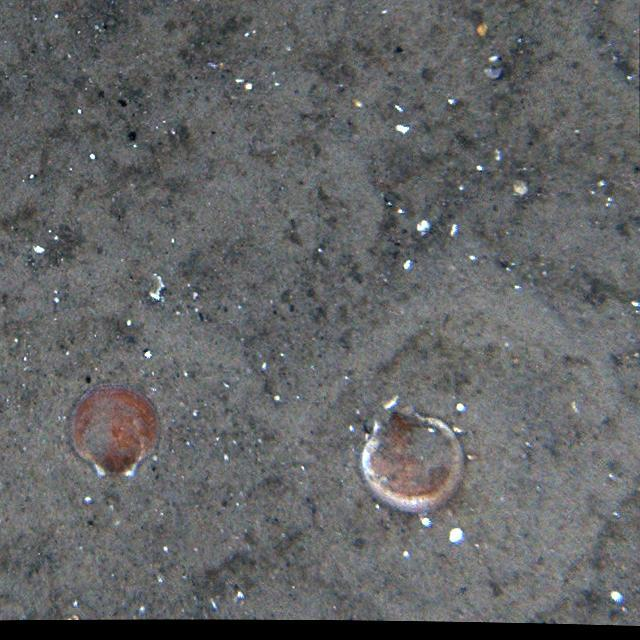scallop: (356, 400, 466, 519), (63, 382, 159, 479)
